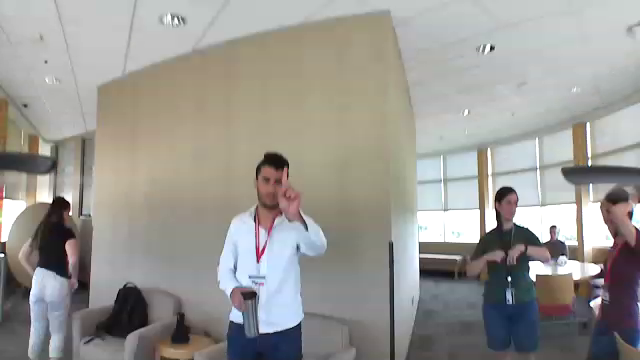up: (274, 159, 302, 219)
